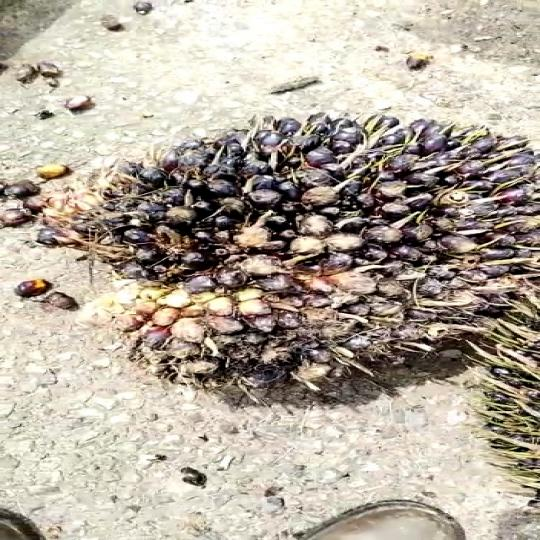mentah: (56, 110, 540, 399)
